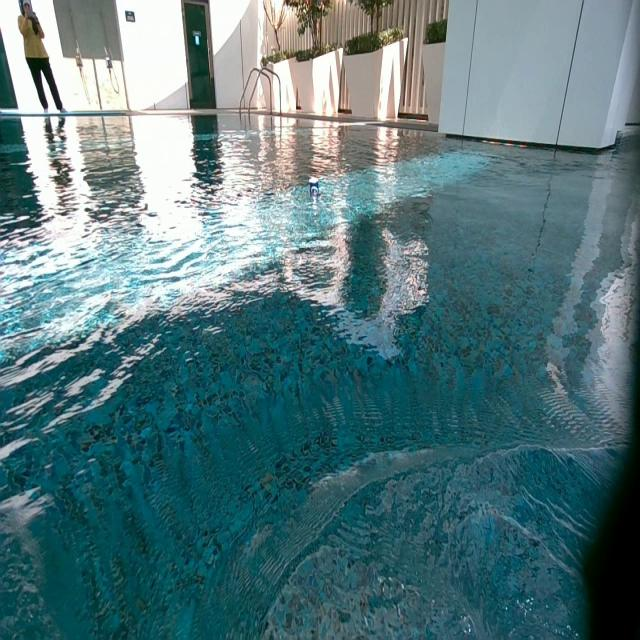Cans: (309, 180, 321, 199)
